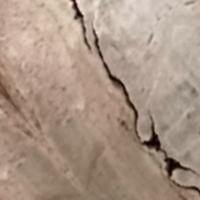crack: (64, 0, 199, 195)
